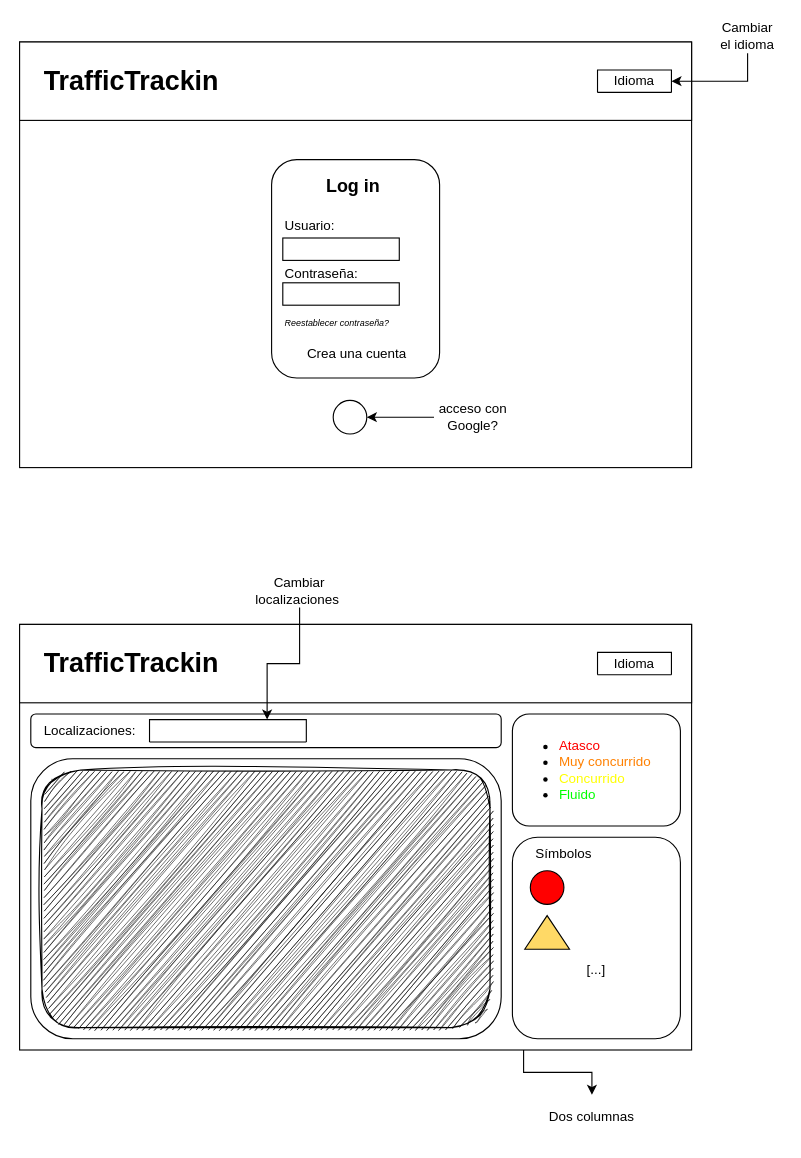
The diagram is 801 pixels wide and 1158 high, and some of its shapes have lost their labels. Here are the shapes that lost their labels. From the top down, the box of each, then its label:
(148, 718, 306, 742): Localizaciones
(41, 769, 490, 1028): MAPA
